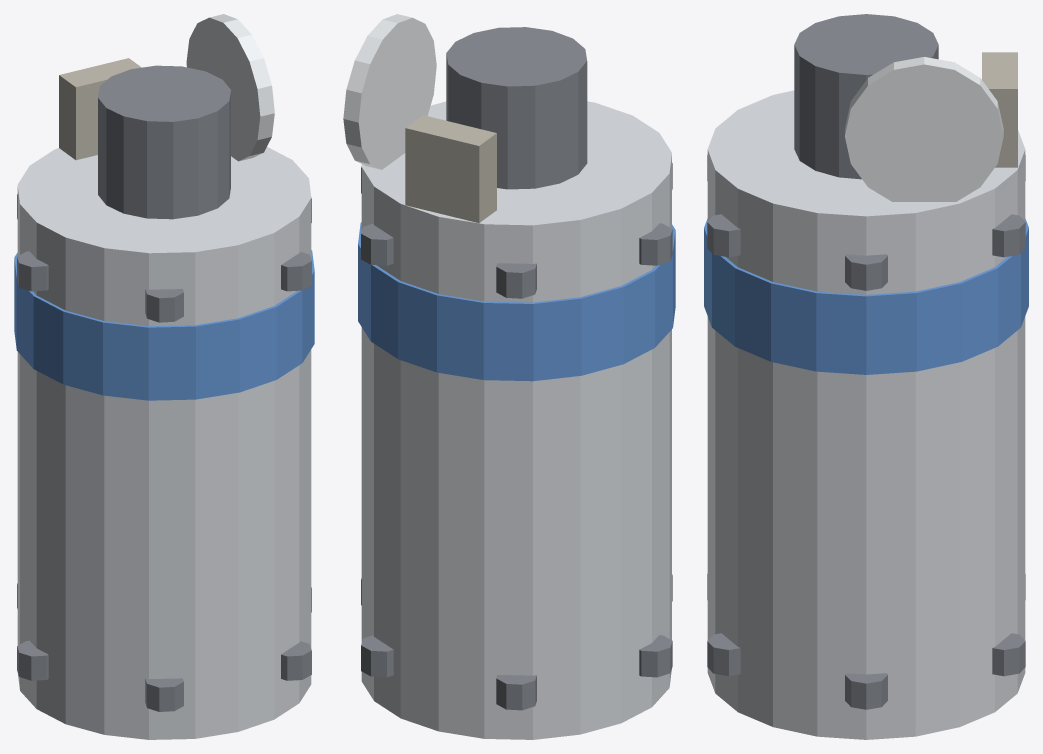
File: hassault-grenade-flash.glb
3 views of the same model, side by side, from view 1: azimuth 30°, elevation 25°; view 2: azimuth 150°, elevation 25°; view 3: azimuth 270°, elevation 25° (orthographic). The views are drawn at different scales.
Parts seen in each view (by area): view 1: hassault-grenade-flash; view 2: hassault-grenade-flash; view 3: hassault-grenade-flash.
Boxes of the visible parts, <box> form: hassault-grenade-flash: <box>14,14,314,739</box>; hassault-grenade-flash: <box>343,14,675,739</box>; hassault-grenade-flash: <box>704,14,1028,739</box>.
Size of the model in its own units: 0.05 by 0.101 by 0.045.
